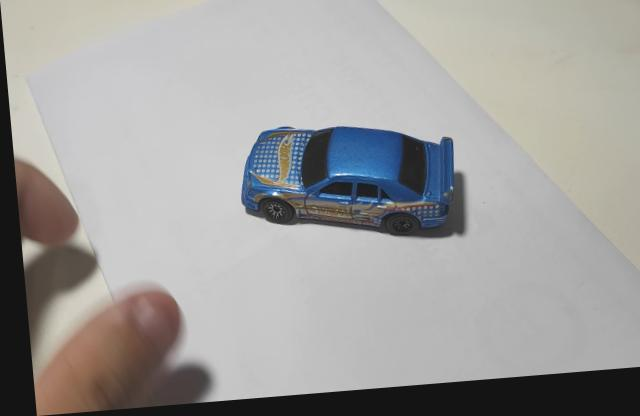04_MERZEDES: (237, 132, 452, 246)
